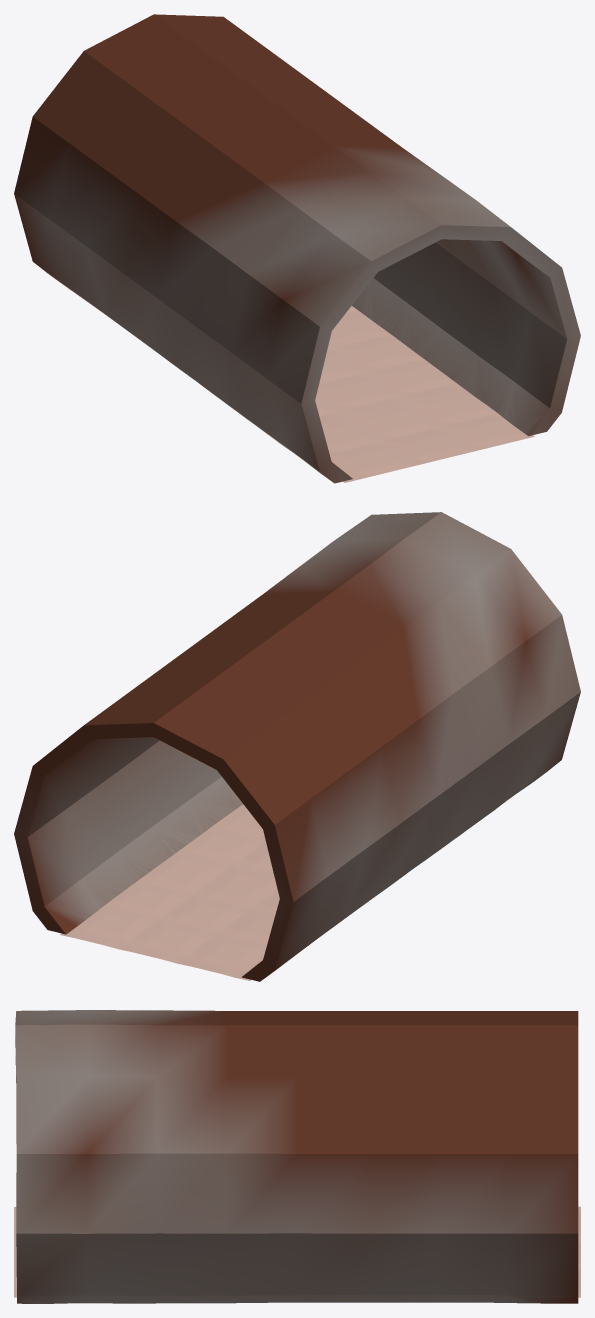
The model's file is Tunnel vierge.fbx.
3 renders of one model, top to bottom at view 1: azimuth 30°, elevation 25°; view 2: azimuth 150°, elevation 25°; view 3: azimuth 270°, elevation 25°, orthographic. The views are drawn at different scales.
Parts seen in each view (by area): view 1: Cylindre; view 2: Cylindre; view 3: Cylindre.
Boxes of the visible parts, bbox=[...] form: Cylindre: bbox=[14, 14, 580, 483]; Cylindre: bbox=[14, 512, 580, 981]; Cylindre: bbox=[14, 1010, 580, 1303].
Size of the model in its own units: 4.55 by 3.65 by 8.18.
